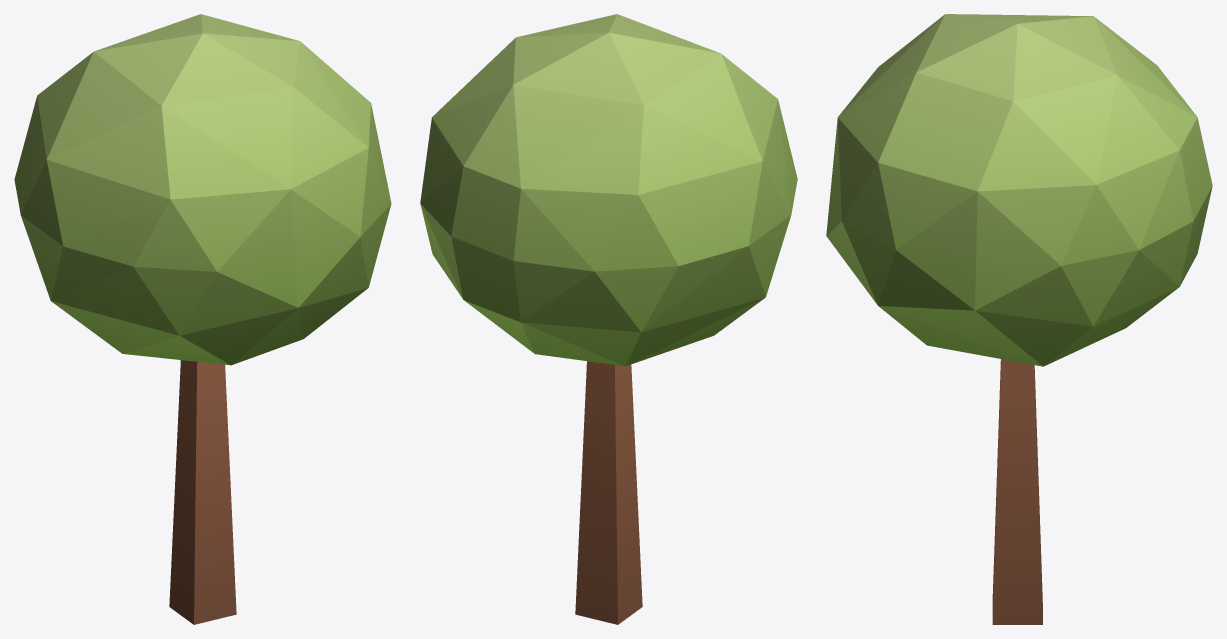
The model's file is tree.fbx.
3 views of the same model, side by side, from view 1: azimuth 30°, elevation 25°; view 2: azimuth 150°, elevation 25°; view 3: azimuth 270°, elevation 25° (orthographic). The views are drawn at different scales.
Parts seen in each view (by area): view 1: tree; view 2: tree; view 3: tree.
Part boxes in pixels (bbox=[...]): tree: bbox=[14, 14, 391, 624]; tree: bbox=[420, 14, 797, 624]; tree: bbox=[826, 14, 1212, 624].
Bounding box in the file's own units: 252 × 433 × 256.
